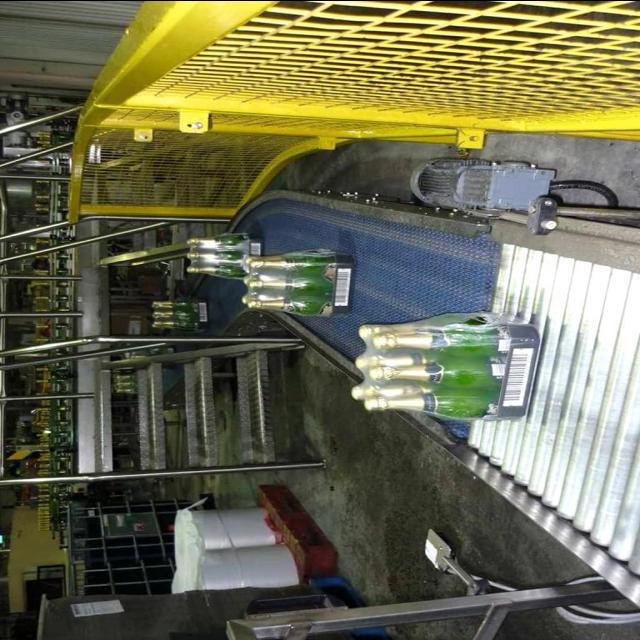bottle: (367, 353, 508, 389), (362, 387, 502, 421), (374, 320, 512, 354), (246, 294, 346, 318), (250, 251, 338, 272)
